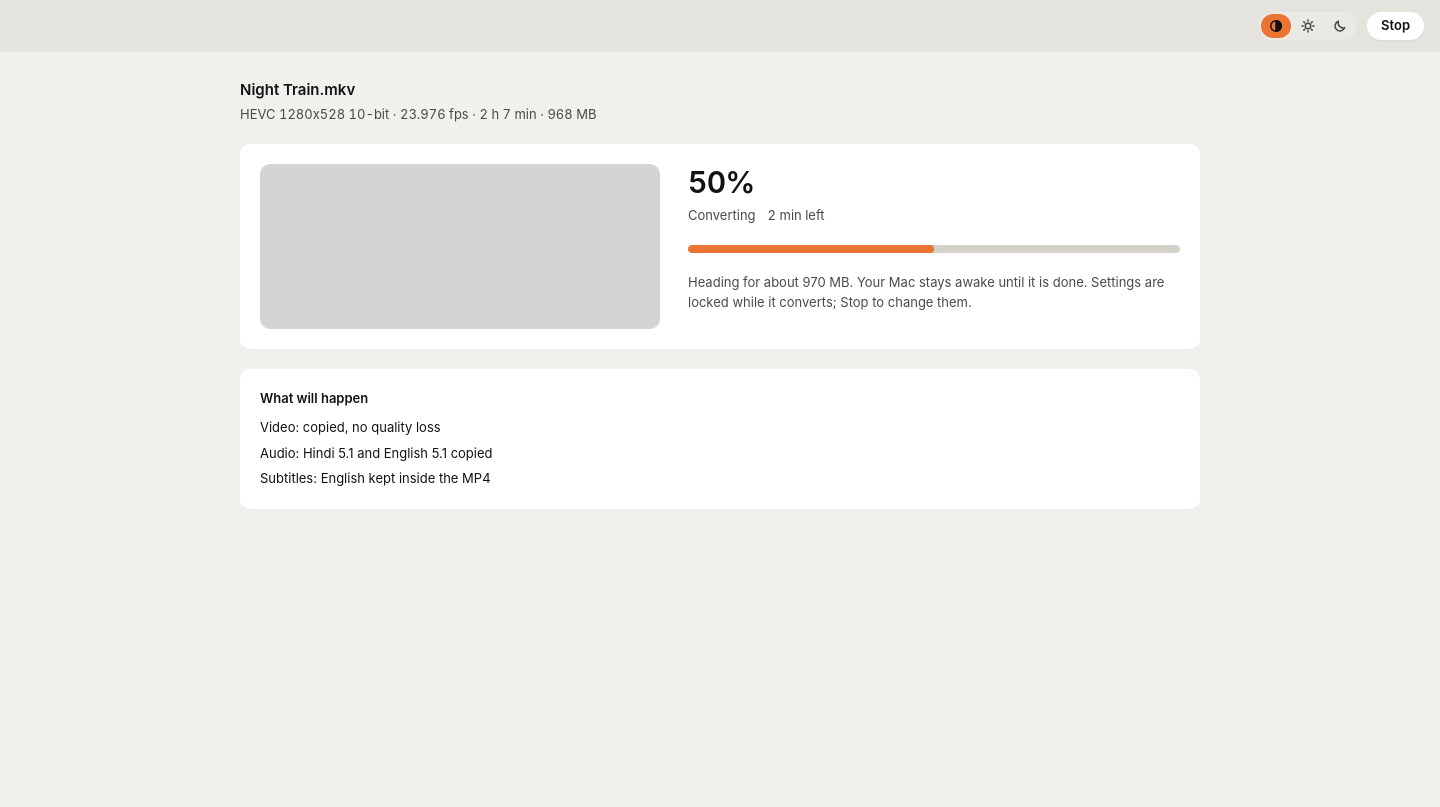
Test: converting and done › shows progress and Stop while converting, with the settings locked away
Expected: the tab "Tracks" is not shown
Click the button "Stop": [1396, 26] box [1367, 12, 1424, 40]
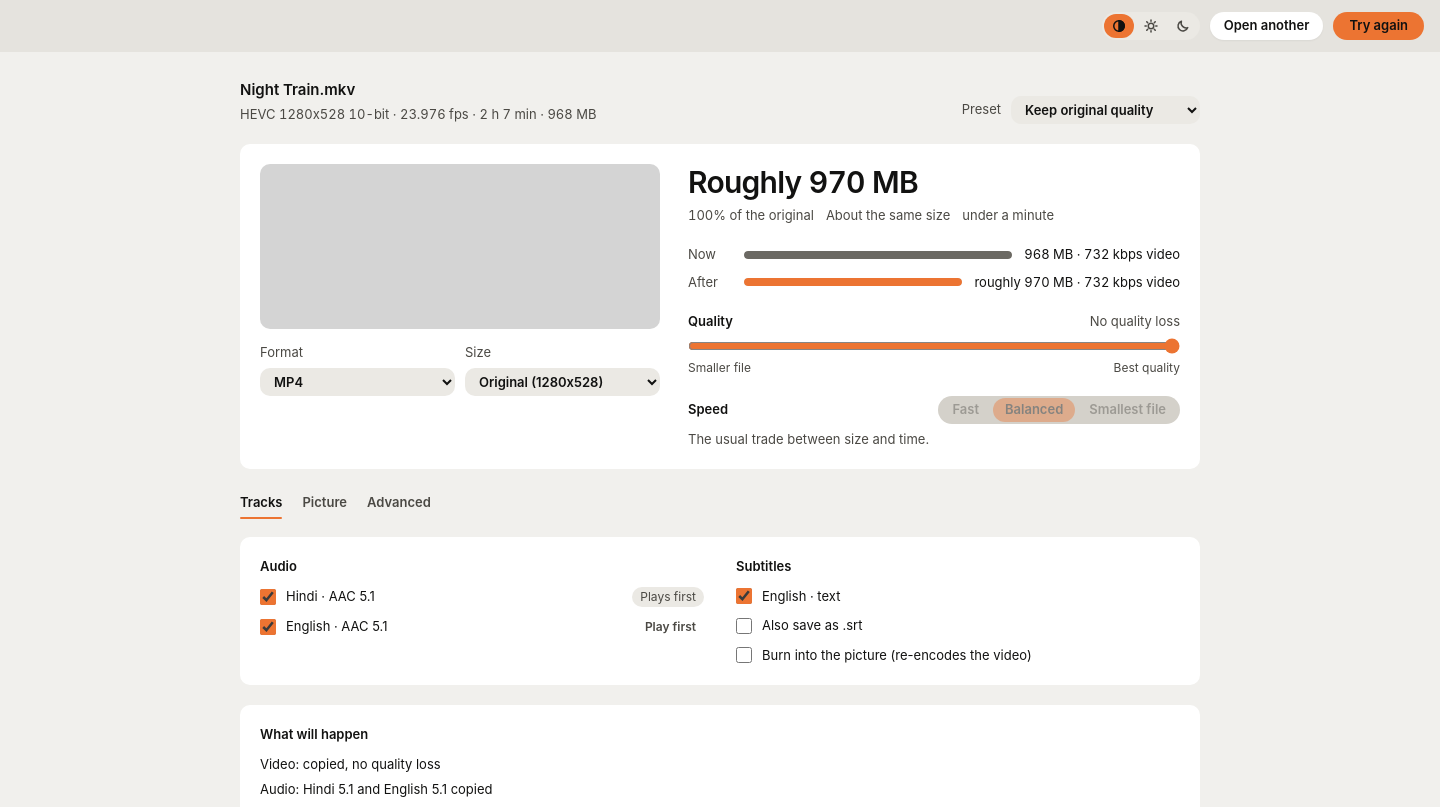
Expected: the button "Try again" is shown, [1333, 12, 1424, 40]
